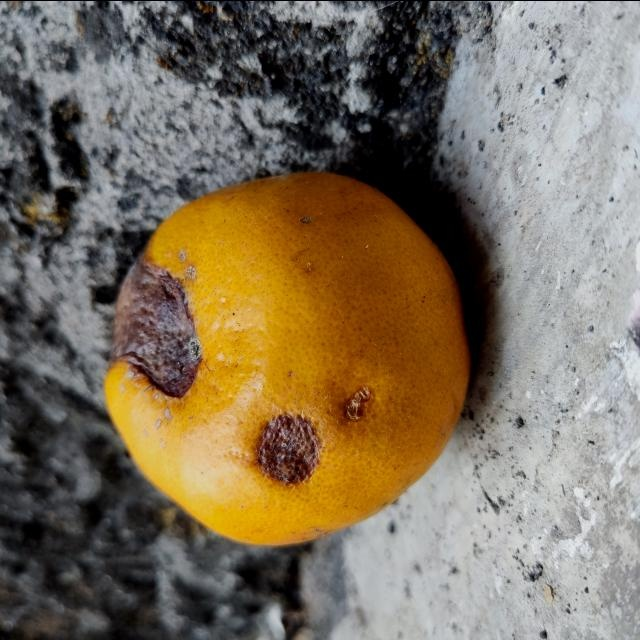agrume: (100, 169, 472, 545)
